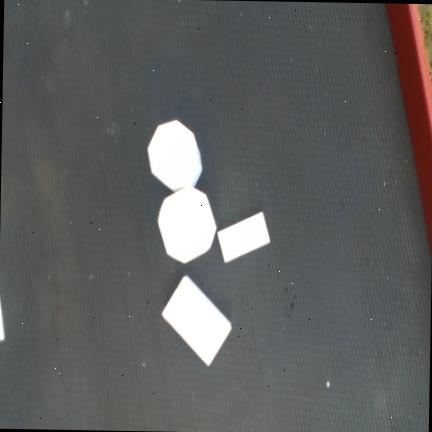Paralelepipedo: (160, 273, 232, 367), (217, 211, 270, 263)
Prisma_hexagonal: (157, 187, 217, 263), (147, 119, 202, 192)
